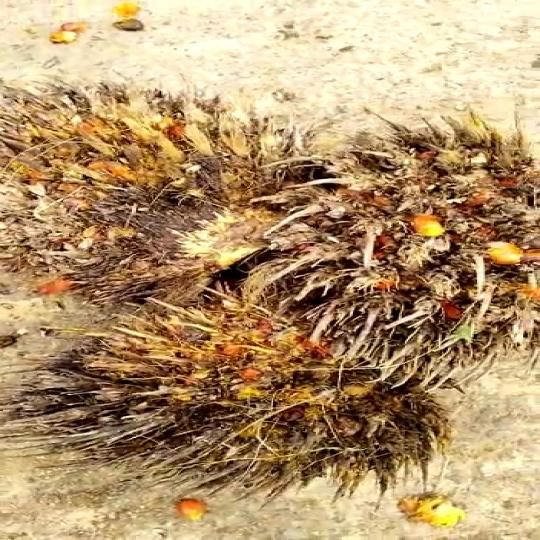terlalu masak: (0, 297, 502, 495), (211, 122, 540, 363)
